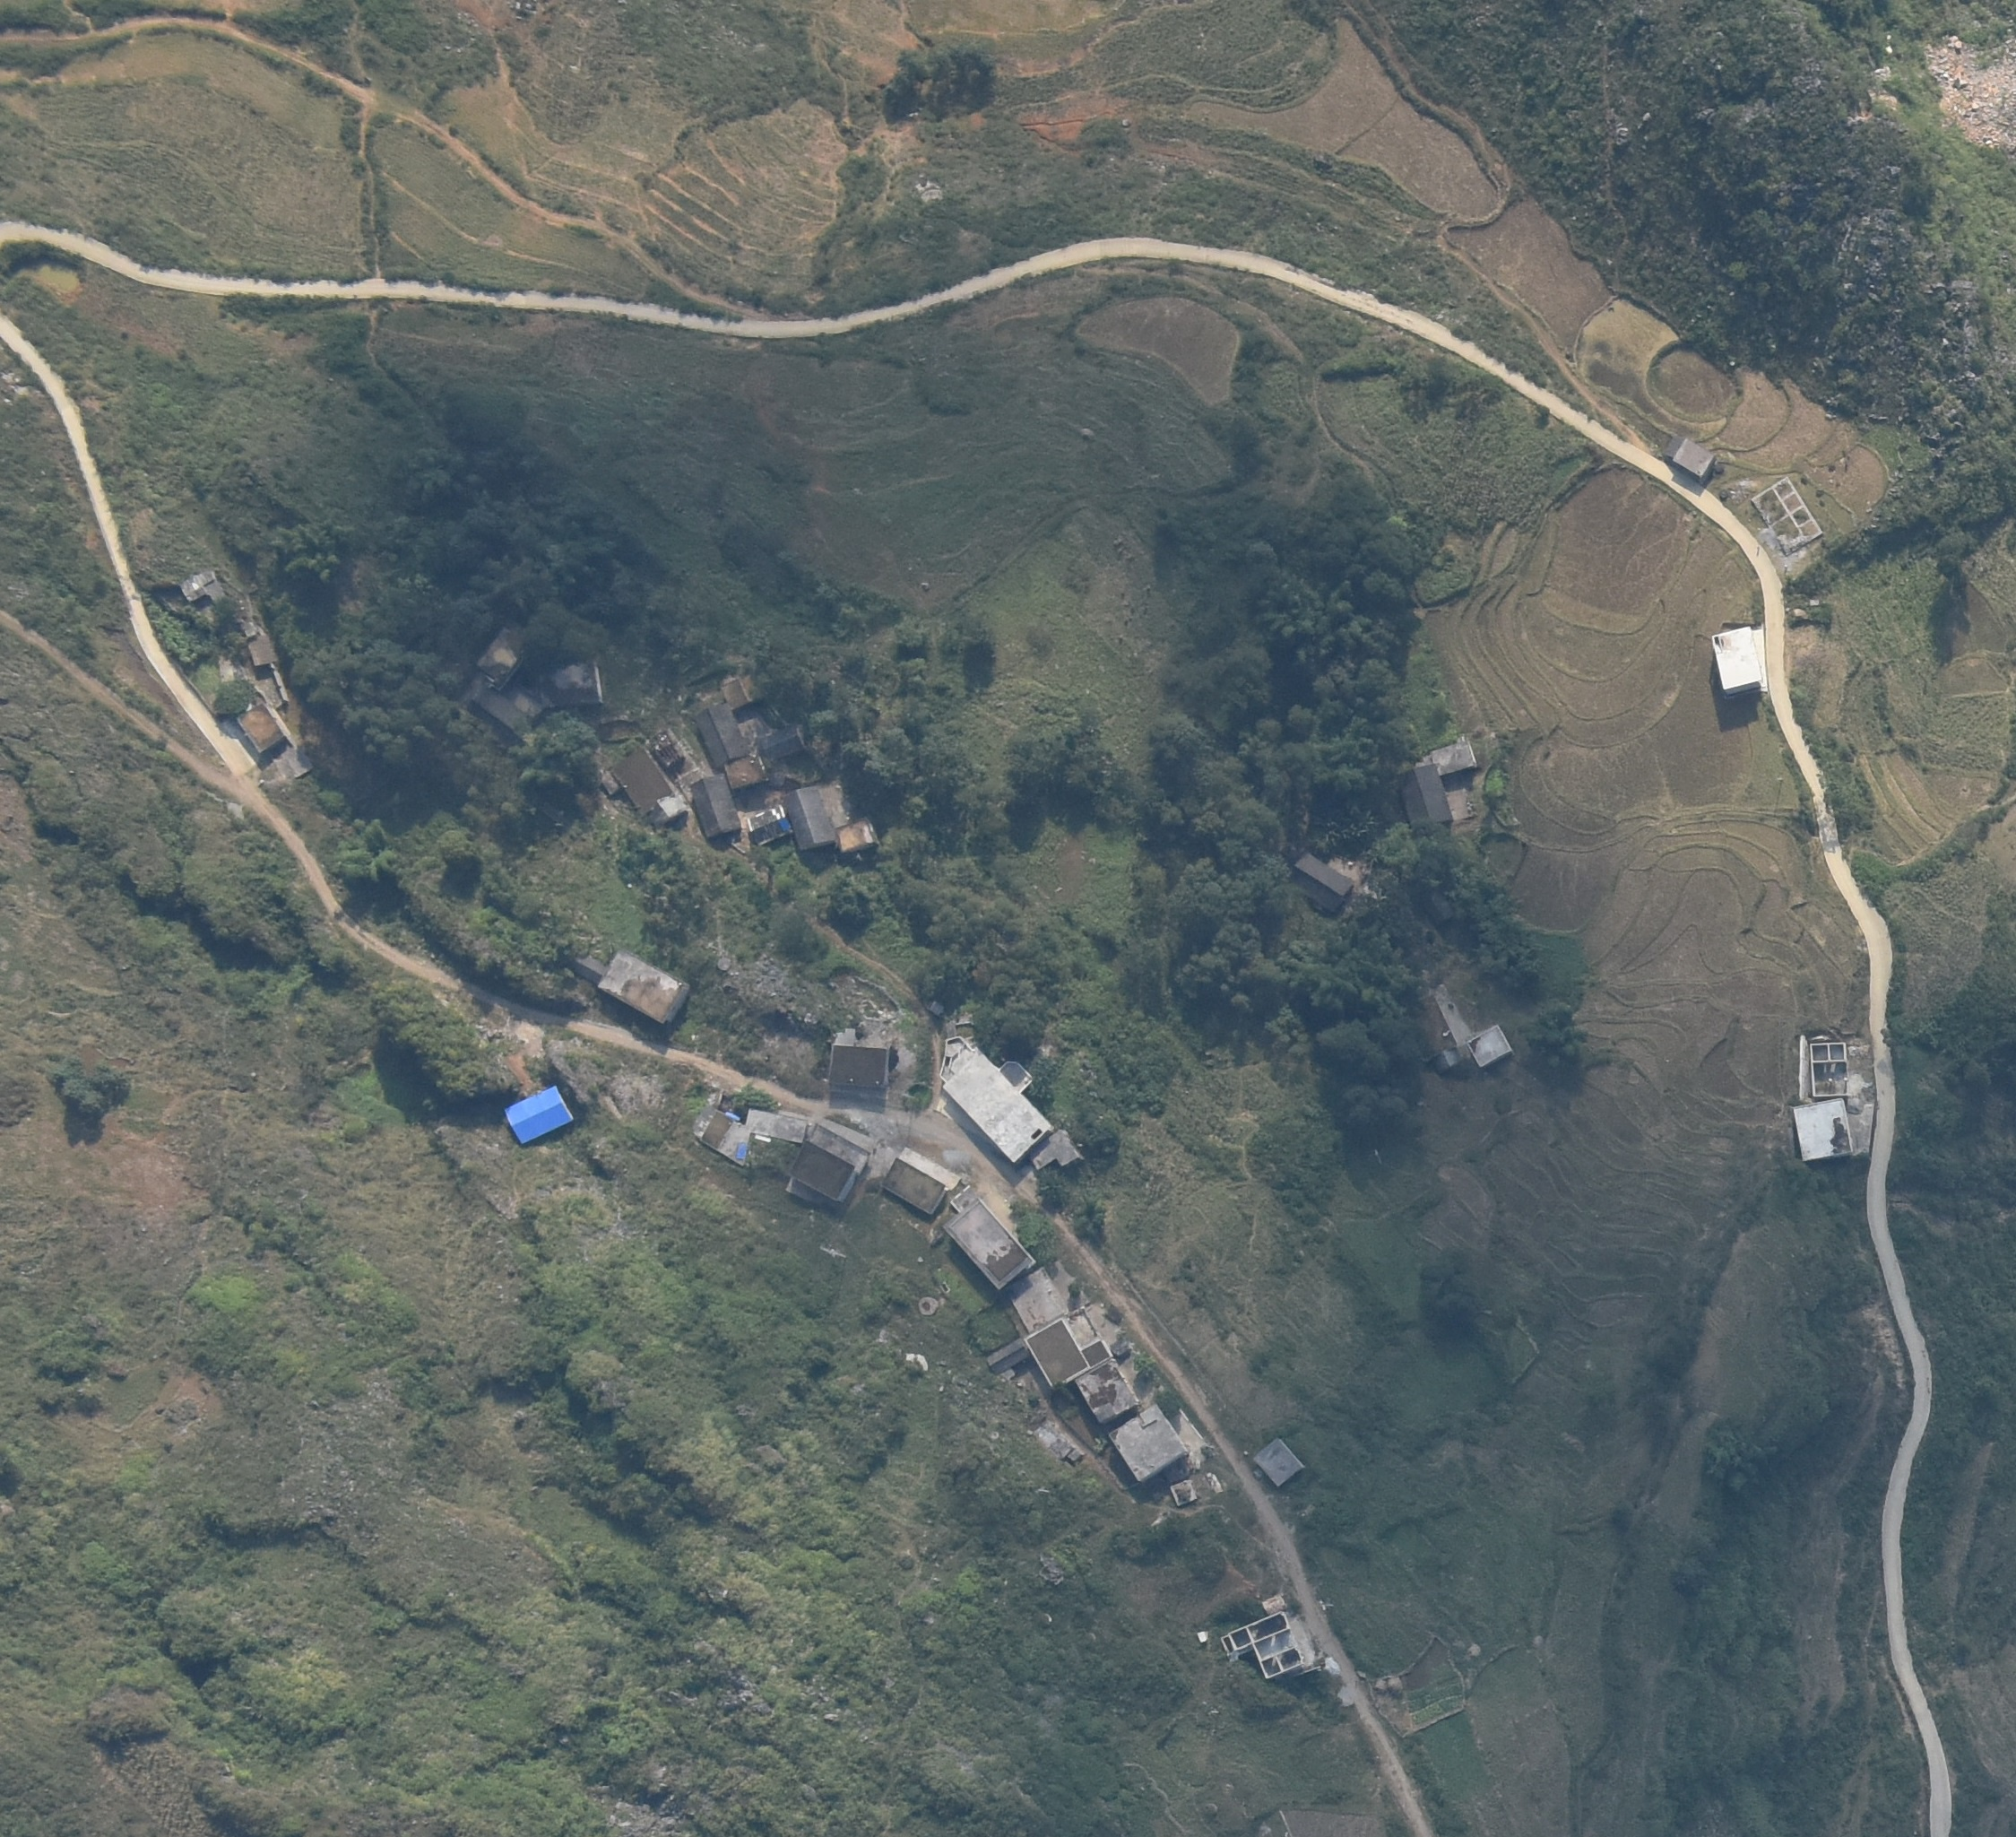building: (940, 1035, 1049, 1164), (941, 1200, 1034, 1290), (789, 1118, 872, 1202), (601, 748, 688, 827), (599, 953, 686, 1024), (1110, 1403, 1184, 1485), (1222, 1614, 1305, 1680), (1403, 994, 1463, 1075), (1024, 1319, 1087, 1391), (1288, 852, 1354, 914), (1004, 1269, 1068, 1330), (694, 701, 751, 767), (1076, 1361, 1138, 1422), (1395, 766, 1455, 828), (1791, 1103, 1856, 1160), (881, 1158, 946, 1213), (475, 689, 543, 738), (692, 1107, 749, 1165), (691, 773, 741, 839), (783, 786, 836, 849), (1713, 626, 1761, 692), (476, 626, 526, 689), (827, 1046, 889, 1090), (236, 703, 285, 754), (1253, 1435, 1302, 1486), (1027, 1130, 1084, 1172), (745, 1105, 809, 1142), (1664, 436, 1717, 480), (1415, 740, 1478, 776), (550, 662, 601, 702), (757, 724, 806, 763), (1467, 1025, 1512, 1065), (748, 806, 792, 845), (722, 753, 770, 788), (182, 568, 224, 607), (242, 618, 275, 665), (987, 1339, 1031, 1374), (646, 729, 685, 766), (835, 819, 878, 852), (721, 675, 757, 708), (570, 950, 606, 980), (1082, 1339, 1110, 1368), (1169, 1481, 1198, 1508), (1262, 1595, 1286, 1615)
prefabricated-house: (503, 1084, 575, 1144)
quarry: (1926, 35, 2016, 147)
well: (918, 1296, 939, 1316)
